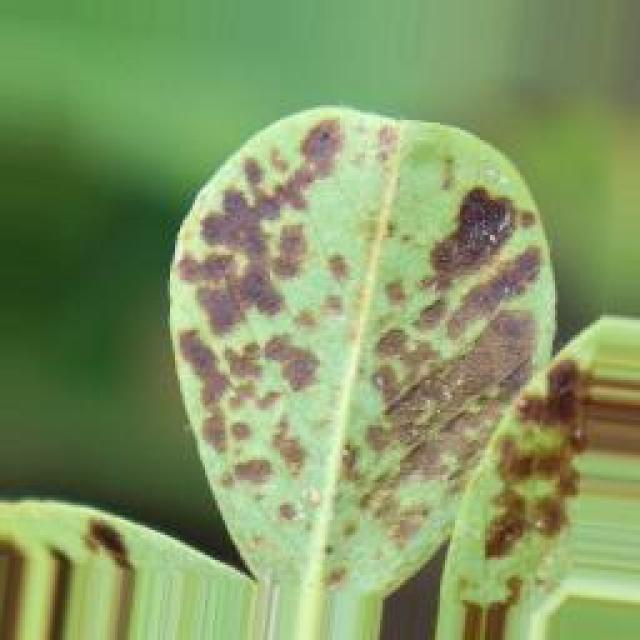Whitefly: (115, 80, 585, 598)
